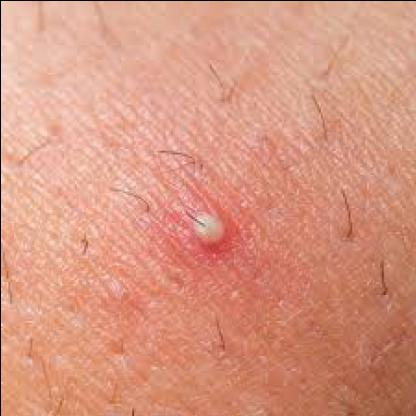Fire ant: (170, 198, 240, 261)
